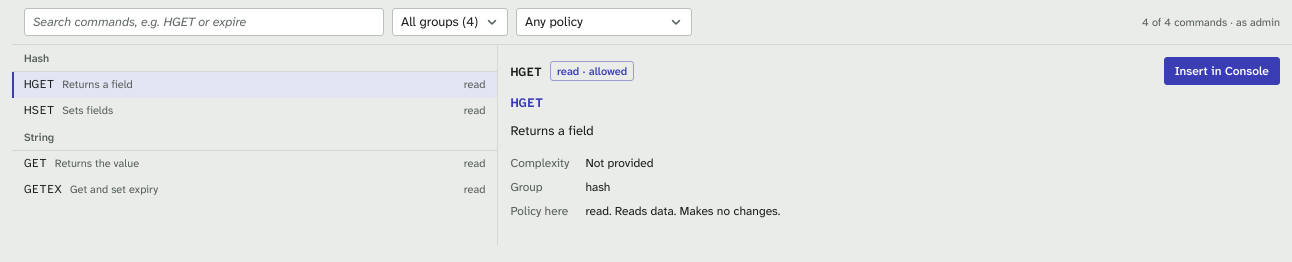
Test: command helper selection follows the filters › a search that hides the selection selects and inserts its first result, and forgets the hidden one
In the search field with test id "command-helper-search": (204, 22) [24,8,384,36], type "HSET"
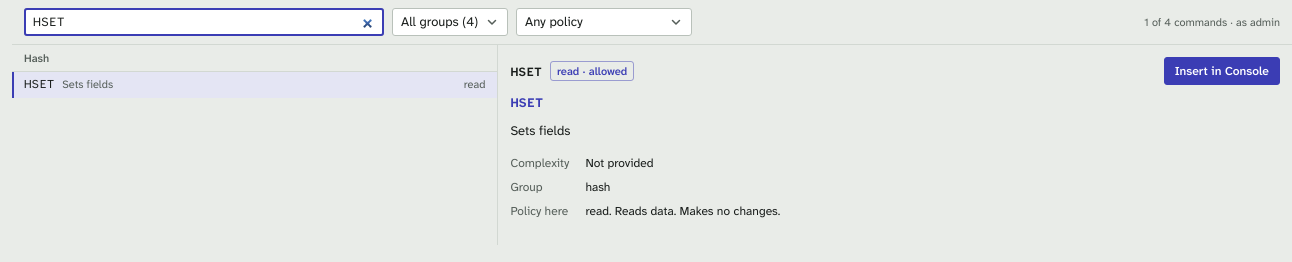
Click the option "HSET Sets fields read": (39, 84) [12,72,497,98]
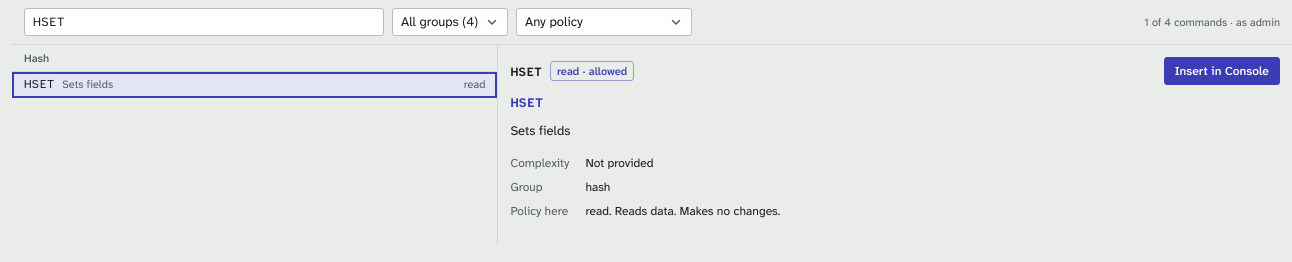
Expected: the element with test id "command-helper-detail" shows "HSET", [510,64,542,80]
Replace the text in the search field with test id "command-helper-search" with "GET": (204, 22) [24,8,384,36]
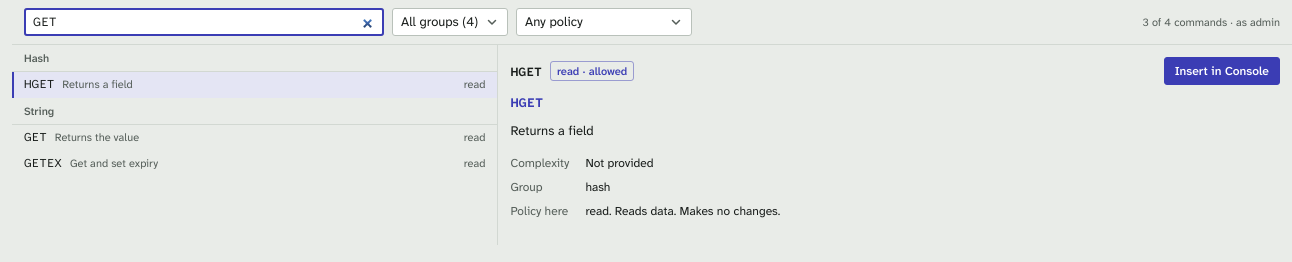
Expected: the 2nd text "HGET" is shown, [24,74,54,94]
Expected: the element with test id "command-helper-detail" no longer shows "HSET", [498,45,1291,245]
Click the button with test id "command-helper-insert": (1222, 71) [1164,57,1280,85]
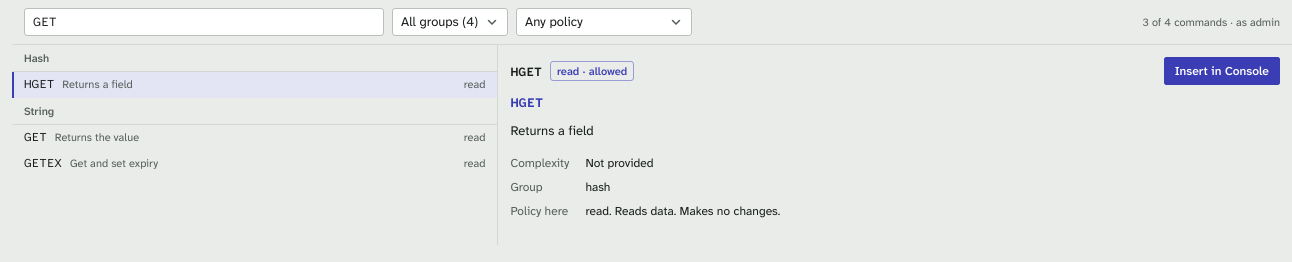
// Clearing the search does not bring the hidden HSET back: the first listed command is shown.
Clear the search field with test id "command-helper-search": (204, 22) [24,8,384,36]
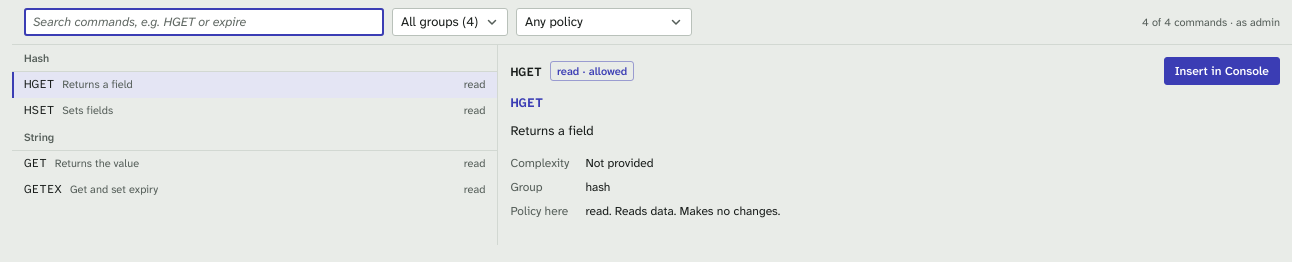
Expected: the element with test id "command-helper-detail" does not show "HSET", [498,45,1291,245]
Expected: the 2nd text "HGET" is shown, [24,74,54,94]
Expected: the number of options with test id "command-helper-item" is 4, [12,72,497,98]; [12,98,497,124]; [12,151,497,177]; [12,177,497,203]
